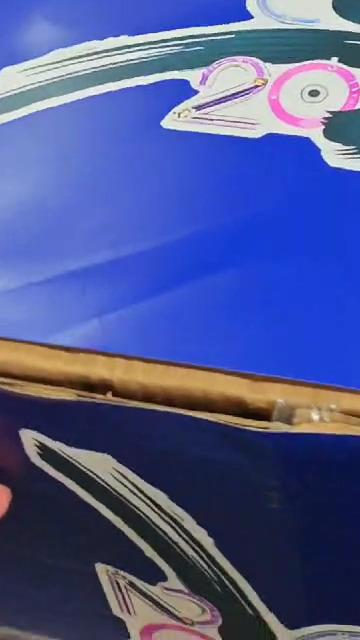B_R1: (9, 0, 360, 172)
